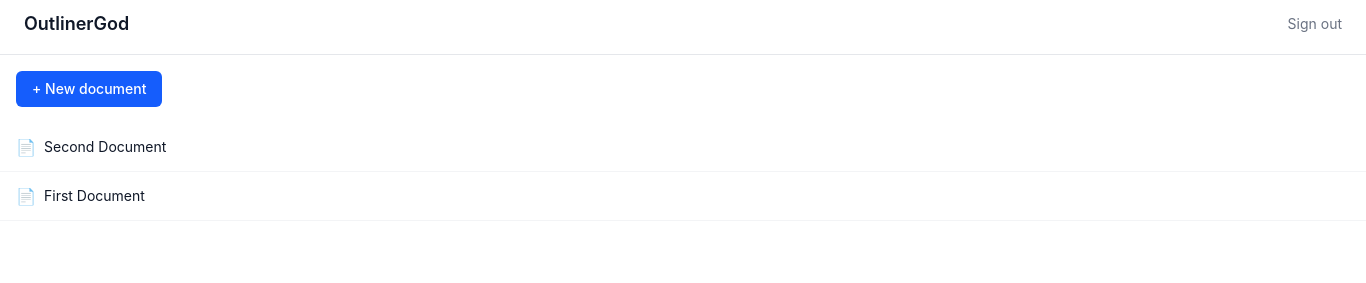
DOC-02 — Create › Test 6: clicking "+ New document" shows an inline text input (autoFocused)
Check: the text "First Document" is shown, box [44,186,145,206]
Step 1. Click the button "+ New document" → (89, 89), box [16,71,162,107]
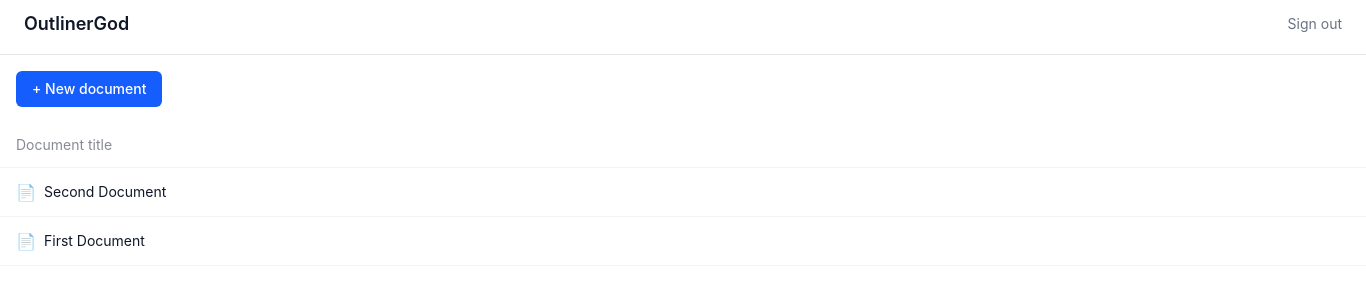
Check: the field is shown, box [16,135,1350,155]
